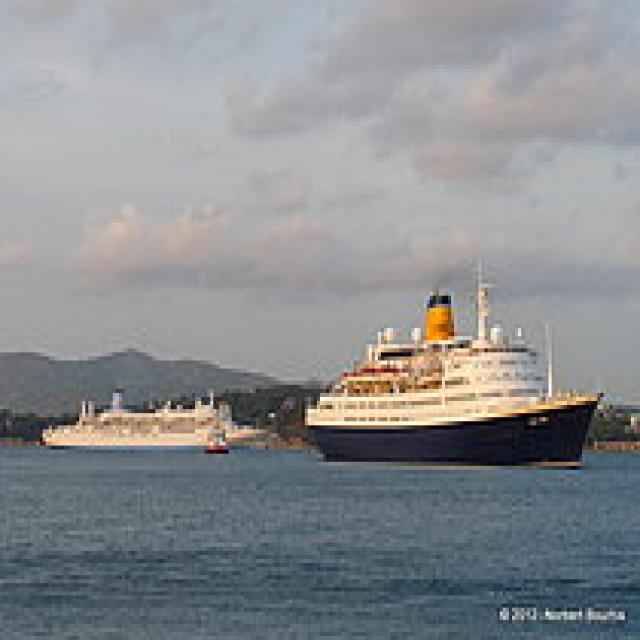Ship: (297, 244, 617, 483), (35, 382, 282, 463)
